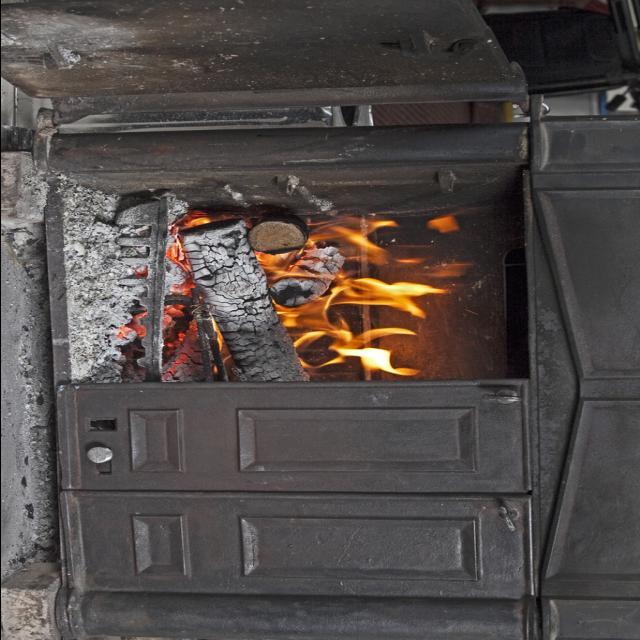Fire: (258, 203, 471, 375)
